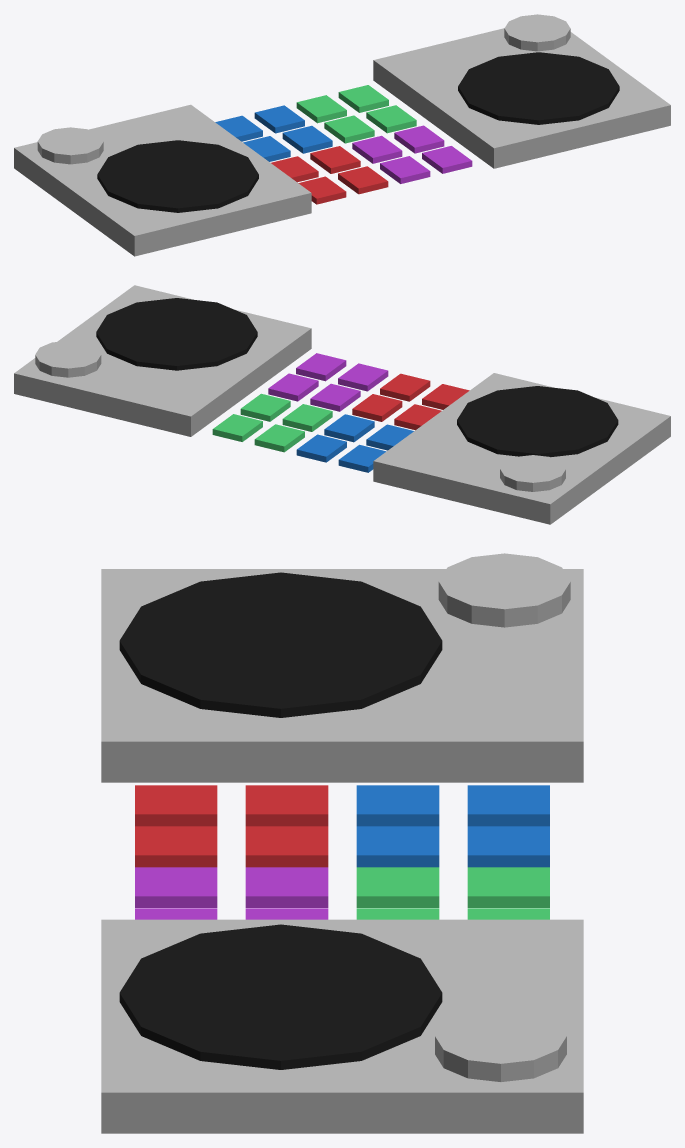
File: Nightclub_DJTop.fbx
The picture shows the model from 3 angles, top to bottom: view 1: azimuth 30°, elevation 25°; view 2: azimuth 150°, elevation 25°; view 3: azimuth 270°, elevation 25°; orthographic projection. The views are drawn at different scales.
Parts seen in each view (by area): view 1: Cube.669, Cube.670; view 2: Cube.669, Cube.670; view 3: Cube.669, Cube.670.
Part boxes in pixels (left/top/right/bottom): Cube.669: left=14, top=14, right=670, bottom=256; Cube.670: left=215, top=85, right=472, bottom=204; Cube.669: left=14, top=285, right=670, bottom=524; Cube.670: left=212, top=353, right=469, bottom=472; Cube.669: left=101, top=553, right=583, bottom=1133; Cube.670: left=135, top=785, right=549, bottom=919.
Bounding box in the file's own units: 181 × 10.69 × 70.51.
